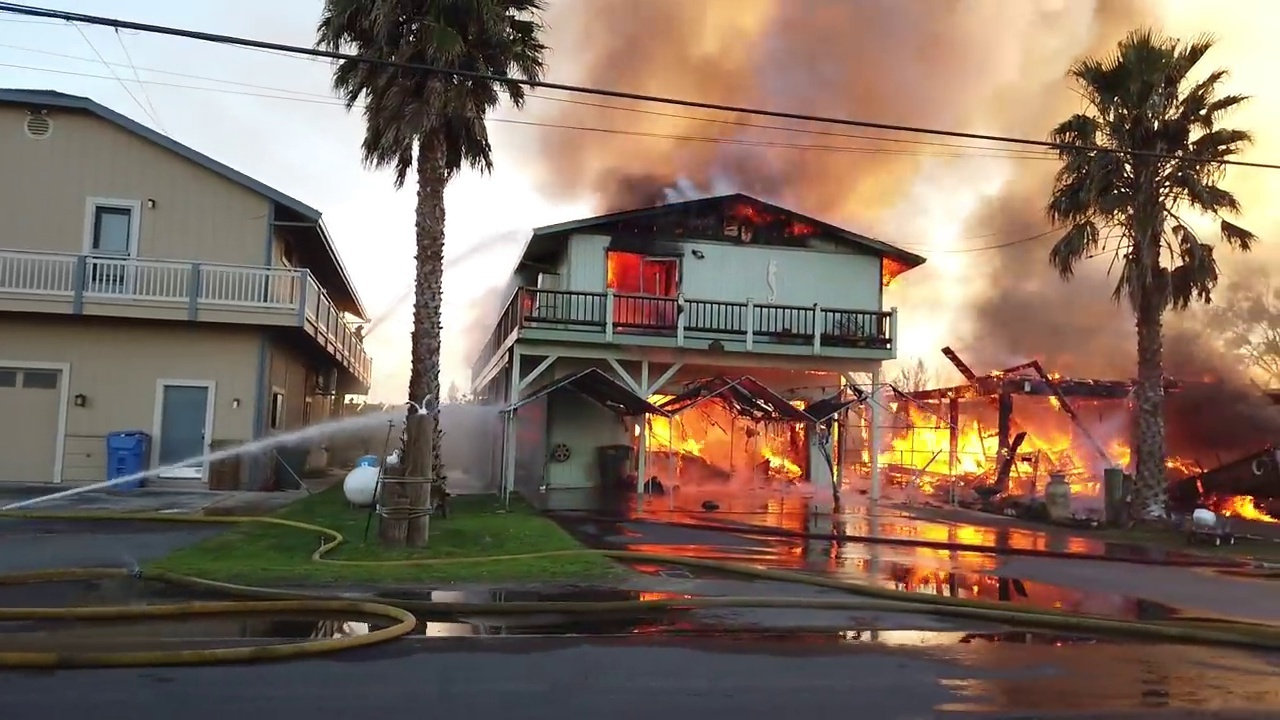fire: (884, 370, 1195, 485), (648, 397, 807, 484), (613, 254, 684, 332), (1211, 492, 1280, 524), (724, 191, 769, 234), (882, 259, 909, 290), (507, 286, 534, 317), (785, 211, 814, 234)
smoke: (538, 1, 868, 203), (880, 3, 1104, 194), (966, 194, 1136, 370), (1168, 328, 1280, 454), (900, 207, 964, 346)
